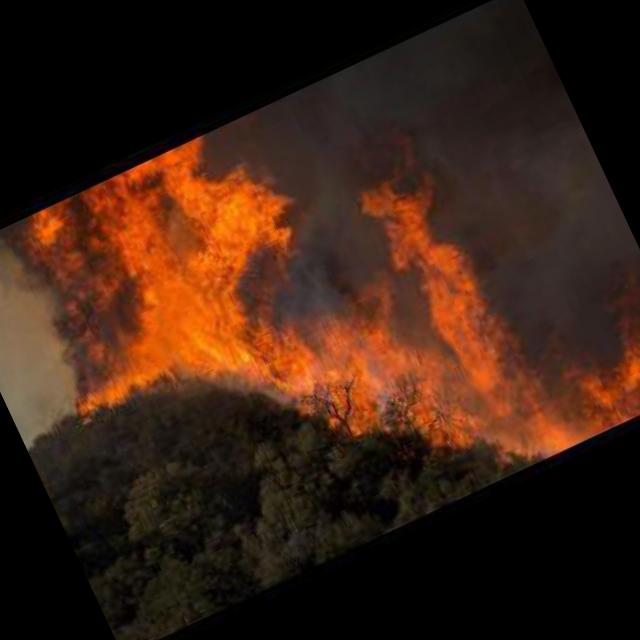fire: (1, 0, 640, 622)
